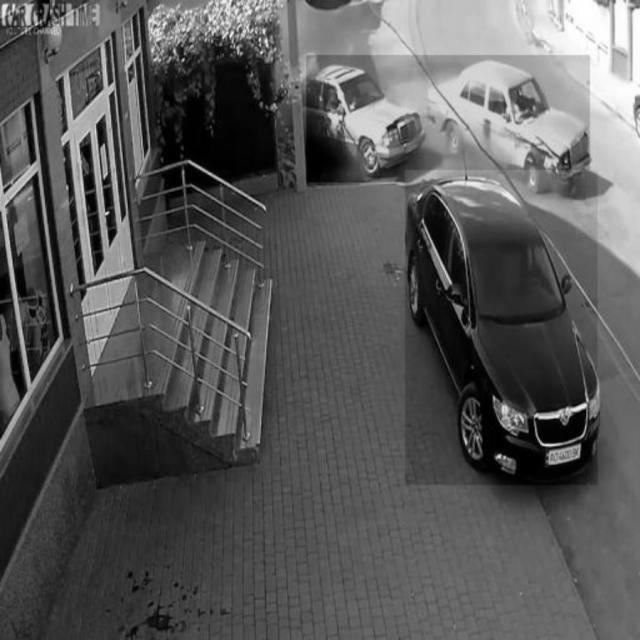accident: (306, 55, 590, 183)
vehicle: (406, 171, 598, 485)
